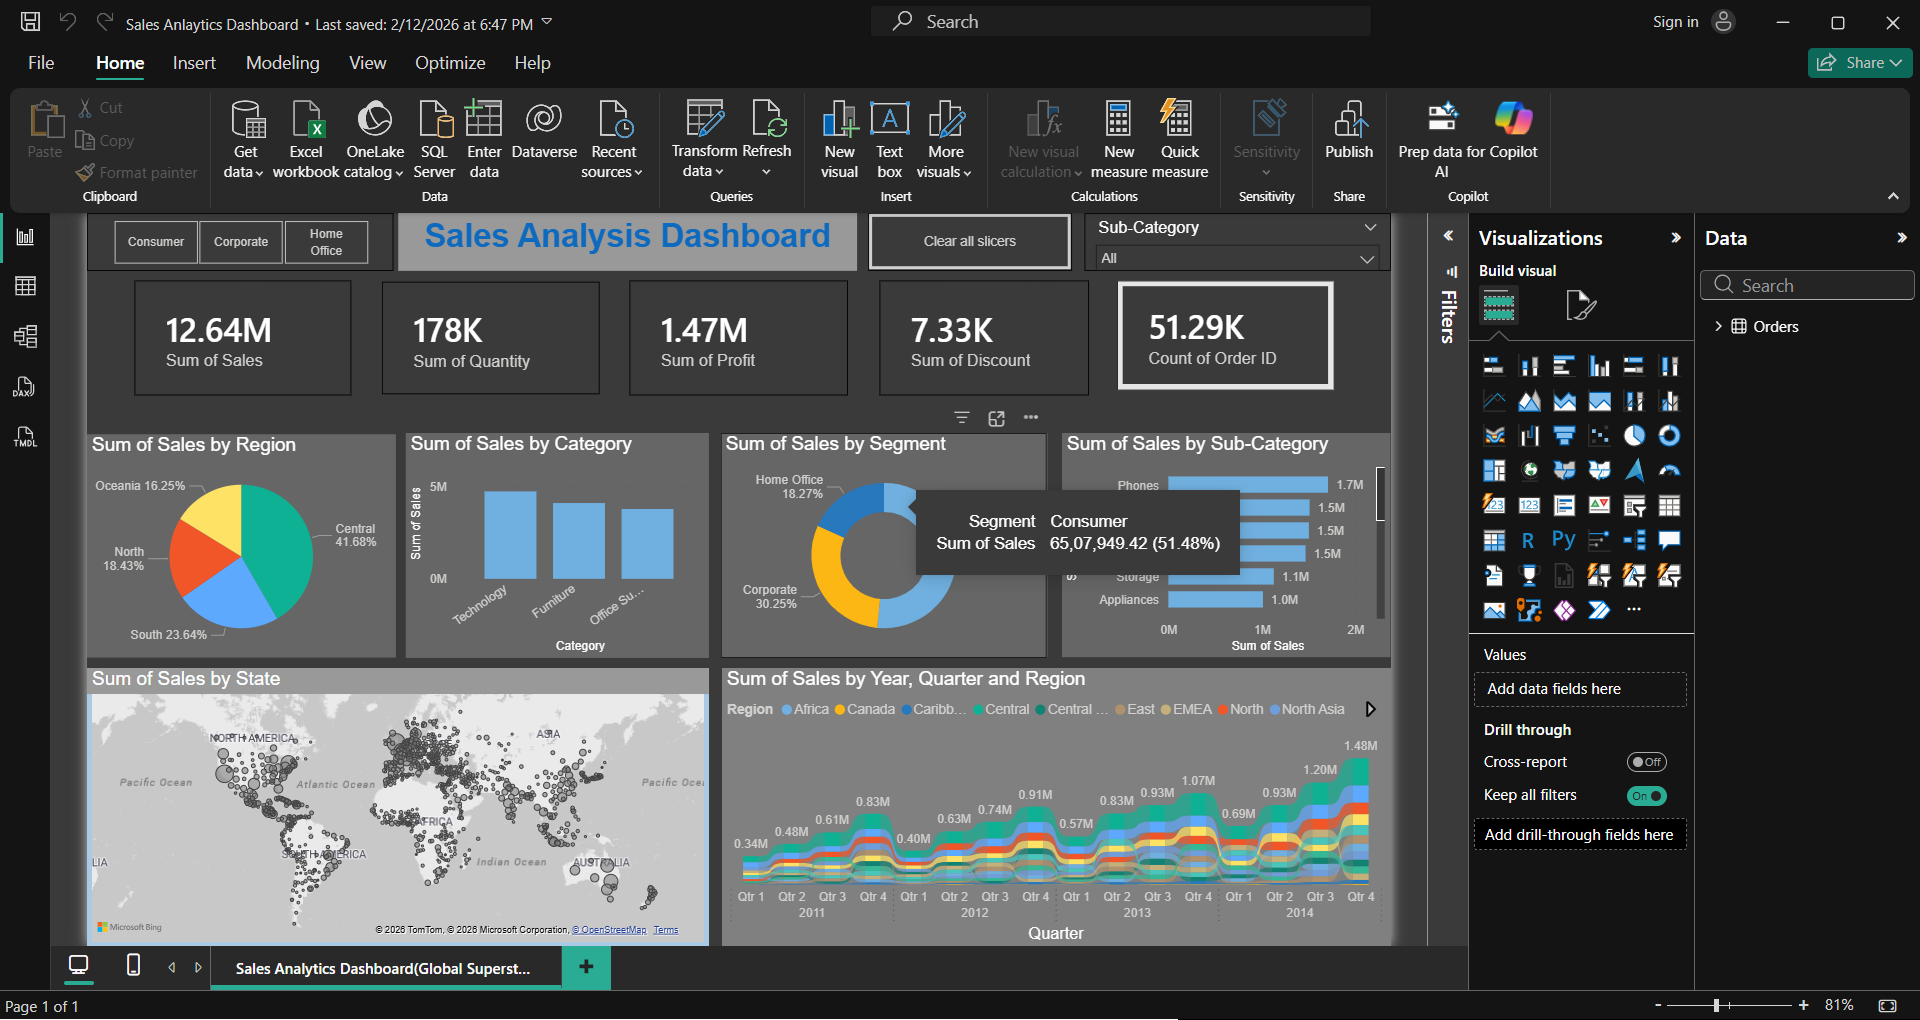

The dashboard page shown, as its layout file describes it:
{"tool":"powerbi","page":{"name":"Sales Analytics Dashboard(Global Superstore)","canvas":[1280,720],"ordinal":0},"visuals":[{"type":"cardVisual","fields":{"Data":["Sum(Orders.Sales)"]},"box":[46.7,65.9,212.7,112.5],"z":0},{"type":"textbox","box":[305.5,0,450.3,56.4],"z":1000},{"type":"cardVisual","fields":{"Data":["Sum(Orders.Profit)"]},"box":[532.4,65.9,214.1,112.5],"z":2000},{"type":"cardVisual","fields":{"Data":["Sum(Orders.Quantity)"]},"box":[289.8,67.2,214,110.7],"z":3000},{"type":"cardVisual","fields":{"Data":["Sum(Orders.Discount)"]},"box":[778,65.9,205.8,112.5],"z":4000},{"type":"cardVisual","fields":{"Data":["CountNonNull(Orders.Order ID)"]},"box":[1011.3,65.9,214,108.2],"z":5000},{"type":"columnChart","fields":{"Category":["Orders.Category"],"Y":["Sum(Orders.Sales)"]},"box":[312.9,215.4,297.8,220.9],"z":6000},{"type":"donutChart","fields":{"Category":["Orders.Segment"],"Y":["Sum(Orders.Sales)"]},"box":[622,216.4,320.9,220.2],"z":7000},{"type":"barChart","fields":{"Category":["Orders.Sub-Category"],"Y":["Sum(Orders.Sales)"]},"box":[956.6,216.4,322.2,220.2],"z":8000},{"type":"pieChart","fields":{"Category":["Orders.Region"],"Y":["Sum(Orders.Sales)"]},"box":[0,216.8,303.3,219.6],"z":9000},{"type":"map","fields":{"Category":["Orders.State"],"Size":["Sum(Orders.Sales)"]},"box":[0,446.6,610.8,273.7],"z":10000},{"type":"ribbonChart","fields":{"Category":["Orders.Order Date.Variation.Date Hierarchy.Year","Orders.Order Date.Variation.Date Hierarchy.Quarter"],"Y":["Sum(Orders.Sales)"],"Series":["Orders.Region"]},"box":[623.1,446.2,656.4,274.4],"z":11000},{"type":"slicer","fields":{"Values":["Orders.Segment"]},"box":[0,0,300.6,56.4],"z":12000},{"type":"slicer","fields":{"Values":["Orders.Sub-Category"]},"box":[979.1,0,300.6,56.4],"z":13000},{"type":"actionButton","box":[766.9,0,200,56.4],"z":14000}]}

Visuals, with their boxes on the page's 1280x720 design canvas (x1, y1, x2, y2). These are canvas units, not pixel positions in the 1920x1020 screenshot, which may show the page scaled, cropped or inside an application window:
cardVisual - Sum(Orders.Sales): locate(47, 66, 259, 178)
textbox: locate(306, 0, 756, 56)
cardVisual - Sum(Orders.Profit): locate(532, 66, 746, 178)
cardVisual - Sum(Orders.Quantity): locate(290, 67, 504, 178)
cardVisual - Sum(Orders.Discount): locate(778, 66, 984, 178)
cardVisual - CountNonNull(Orders.Order ID): locate(1011, 66, 1225, 174)
columnChart - Orders.Category x Sum(Orders.Sales): locate(313, 215, 611, 436)
donutChart - Orders.Segment x Sum(Orders.Sales): locate(622, 216, 943, 437)
barChart - Orders.Sub-Category x Sum(Orders.Sales): locate(957, 216, 1279, 437)
pieChart - Orders.Region x Sum(Orders.Sales): locate(0, 217, 303, 436)
map - Orders.State x Sum(Orders.Sales): locate(0, 447, 611, 720)
ribbonChart - Orders.Order Date.Variation.Date Hierarchy.Year x Orders.Order Date.Variation.Date Hierarchy.Quarter: locate(623, 446, 1280, 721)
slicer - Orders.Segment: locate(0, 0, 301, 56)
slicer - Orders.Sub-Category: locate(979, 0, 1280, 56)
actionButton: locate(767, 0, 967, 56)
